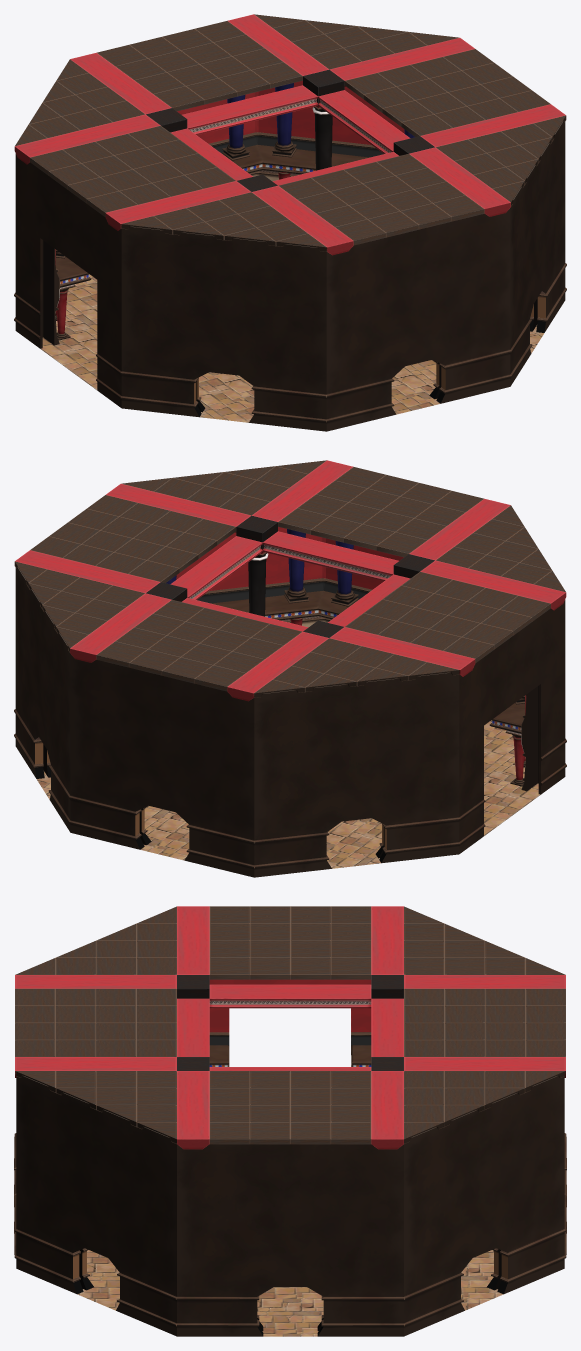
Rendered from em_atrium_complete_grouped.fbx.
3 renders of one model, top to bottom at view 1: azimuth 30°, elevation 25°; view 2: azimuth 150°, elevation 25°; view 3: azimuth 270°, elevation 25°, orthographic. The views are drawn at different scales.
Visible parts, largest first — view 1: em_wall_atrium_section, em_wall_atrium_section1, em_wall_atrium_door_section1, em_wall_atrium_section2, em_floor_atrium, em_wall_atrium_section4, em_ceiling_atrium_crossbeam_1, em_ceiling_atrium_square9 (×4), em_ceiling_atrium_square14 (×4), em_ceiling_atrium_square15 (×4), em_ceiling_atrium_square3 (×4), em_ceiling_atrium_square8 (×4) (+33 smaller); view 2: em_wall_atrium_section6, em_wall_atrium_section5, em_wall_atrium_door_section1, em_wall_atrium_section4, em_floor_atrium, em_wall_atrium_section2, em_ceiling_atrium_crossbeam_2, em_ceiling_atrium_square8 (×4), em_ceiling_atrium_square13 (×4), em_ceiling_atrium_square3 (×4), em_ceiling_atrium_square15 (×4), em_ceiling_atrium_square9 (×4) (+33 smaller); view 3: em_wall_atrium_section3, em_wall_atrium_section4, em_wall_atrium_section2, em_floor_atrium, em_ceiling_atrium_crossbeam_4, em_wall_atrium_door_section1, em_ceiling_atrium_square14 (×4), em_ceiling_atrium_square3 (×4), em_ceiling_atrium_square13 (×4), em_ceiling_atrium_square15 (×4), em_ceiling_atrium_square9 (×4), em_ceiling_atrium_square (×4) (+29 smaller).
Boxes of the visible parts, x1,y1,x2,y2 form: em_wall_atrium_section: [120, 224, 326, 431]; em_wall_atrium_section1: [326, 208, 511, 431]; em_wall_atrium_door_section1: [14, 154, 121, 407]; em_wall_atrium_section2: [510, 117, 566, 386]; em_floor_atrium: [41, 274, 544, 422]; em_wall_atrium_section4: [257, 80, 414, 181]; em_ceiling_atrium_crossbeam_1: [182, 85, 317, 135]; em_ceiling_atrium_square9 (×4): [166, 78, 414, 183]; em_ceiling_atrium_square14 (×4): [67, 37, 512, 229]; em_ceiling_atrium_square15 (×4): [86, 45, 493, 221]; em_ceiling_atrium_square3 (×4): [30, 21, 550, 245]; em_ceiling_atrium_square8 (×4): [147, 70, 433, 191]; em_wall_atrium_section6: [254, 670, 460, 877]; em_wall_atrium_section5: [69, 654, 254, 877]; em_wall_atrium_door_section1: [459, 600, 566, 853]; em_wall_atrium_section4: [14, 563, 70, 832]; em_floor_atrium: [36, 720, 540, 868]; em_wall_atrium_section2: [166, 526, 323, 627]; em_ceiling_atrium_crossbeam_2: [263, 531, 398, 581]; em_ceiling_atrium_square8 (×4): [166, 524, 414, 629]; em_ceiling_atrium_square13 (×4): [68, 483, 513, 675]; em_ceiling_atrium_square3 (×4): [87, 491, 494, 667]; em_ceiling_atrium_square15 (×4): [30, 467, 550, 691]; em_ceiling_atrium_square9 (×4): [147, 516, 433, 637]; em_wall_atrium_section3: [176, 1144, 404, 1336]; em_wall_atrium_section4: [404, 1071, 566, 1336]; em_wall_atrium_section2: [14, 1071, 176, 1336]; em_floor_atrium: [77, 1250, 503, 1336]; em_ceiling_atrium_crossbeam_4: [209, 984, 371, 1008]; em_wall_atrium_door_section1: [209, 979, 371, 1066]; em_ceiling_atrium_square14 (×4): [15, 906, 565, 1144]; em_ceiling_atrium_square3 (×4): [15, 906, 565, 1144]; em_ceiling_atrium_square13 (×4): [15, 906, 565, 1144]; em_ceiling_atrium_square15 (×4): [15, 906, 565, 1144]; em_ceiling_atrium_square9 (×4): [136, 957, 444, 1087]; em_ceiling_atrium_square (×4): [136, 957, 444, 1087].
Size of the model in its own units: 5064 by 2001 by 5070.
